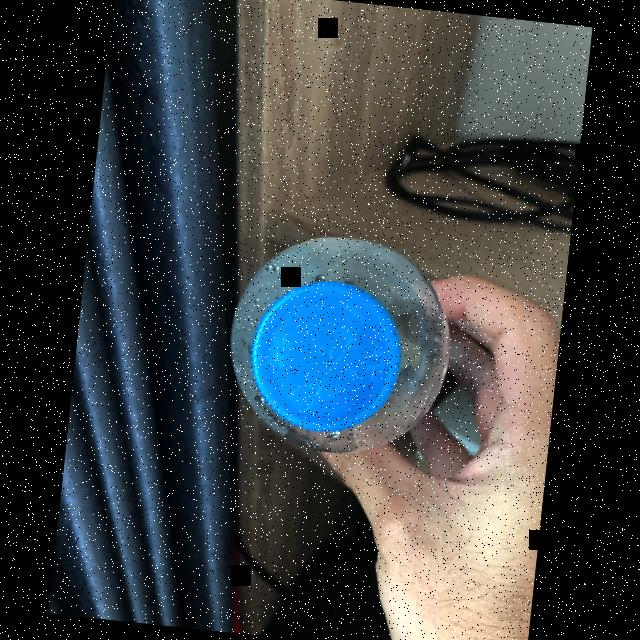plastic_bottle: (213, 216, 464, 469)
